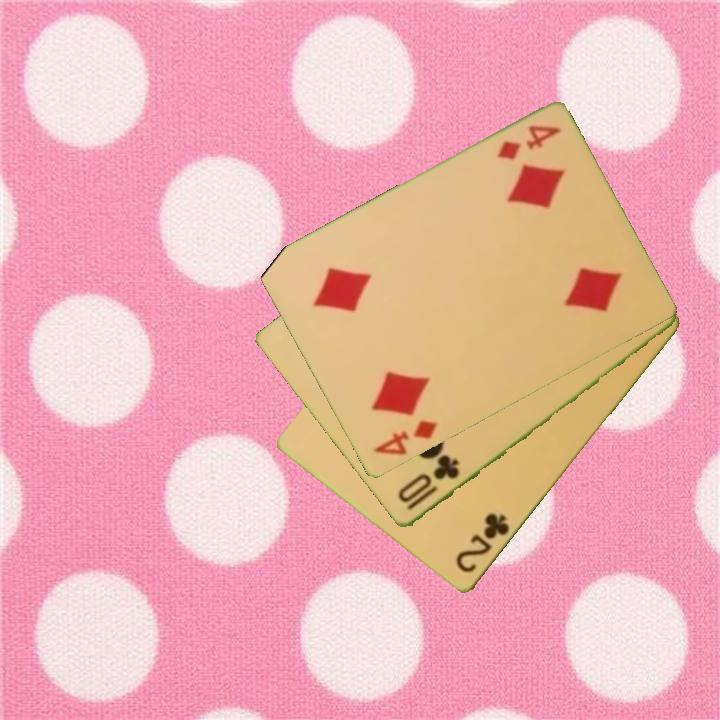10c: (394, 451, 463, 514)
2c: (452, 510, 513, 577)
4d: (369, 417, 441, 459), (493, 122, 564, 164)
